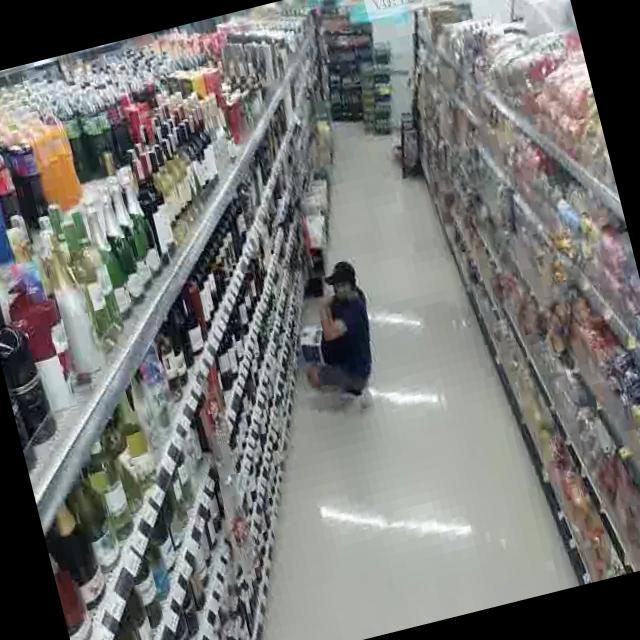shoplifting: (272, 246, 403, 434)
